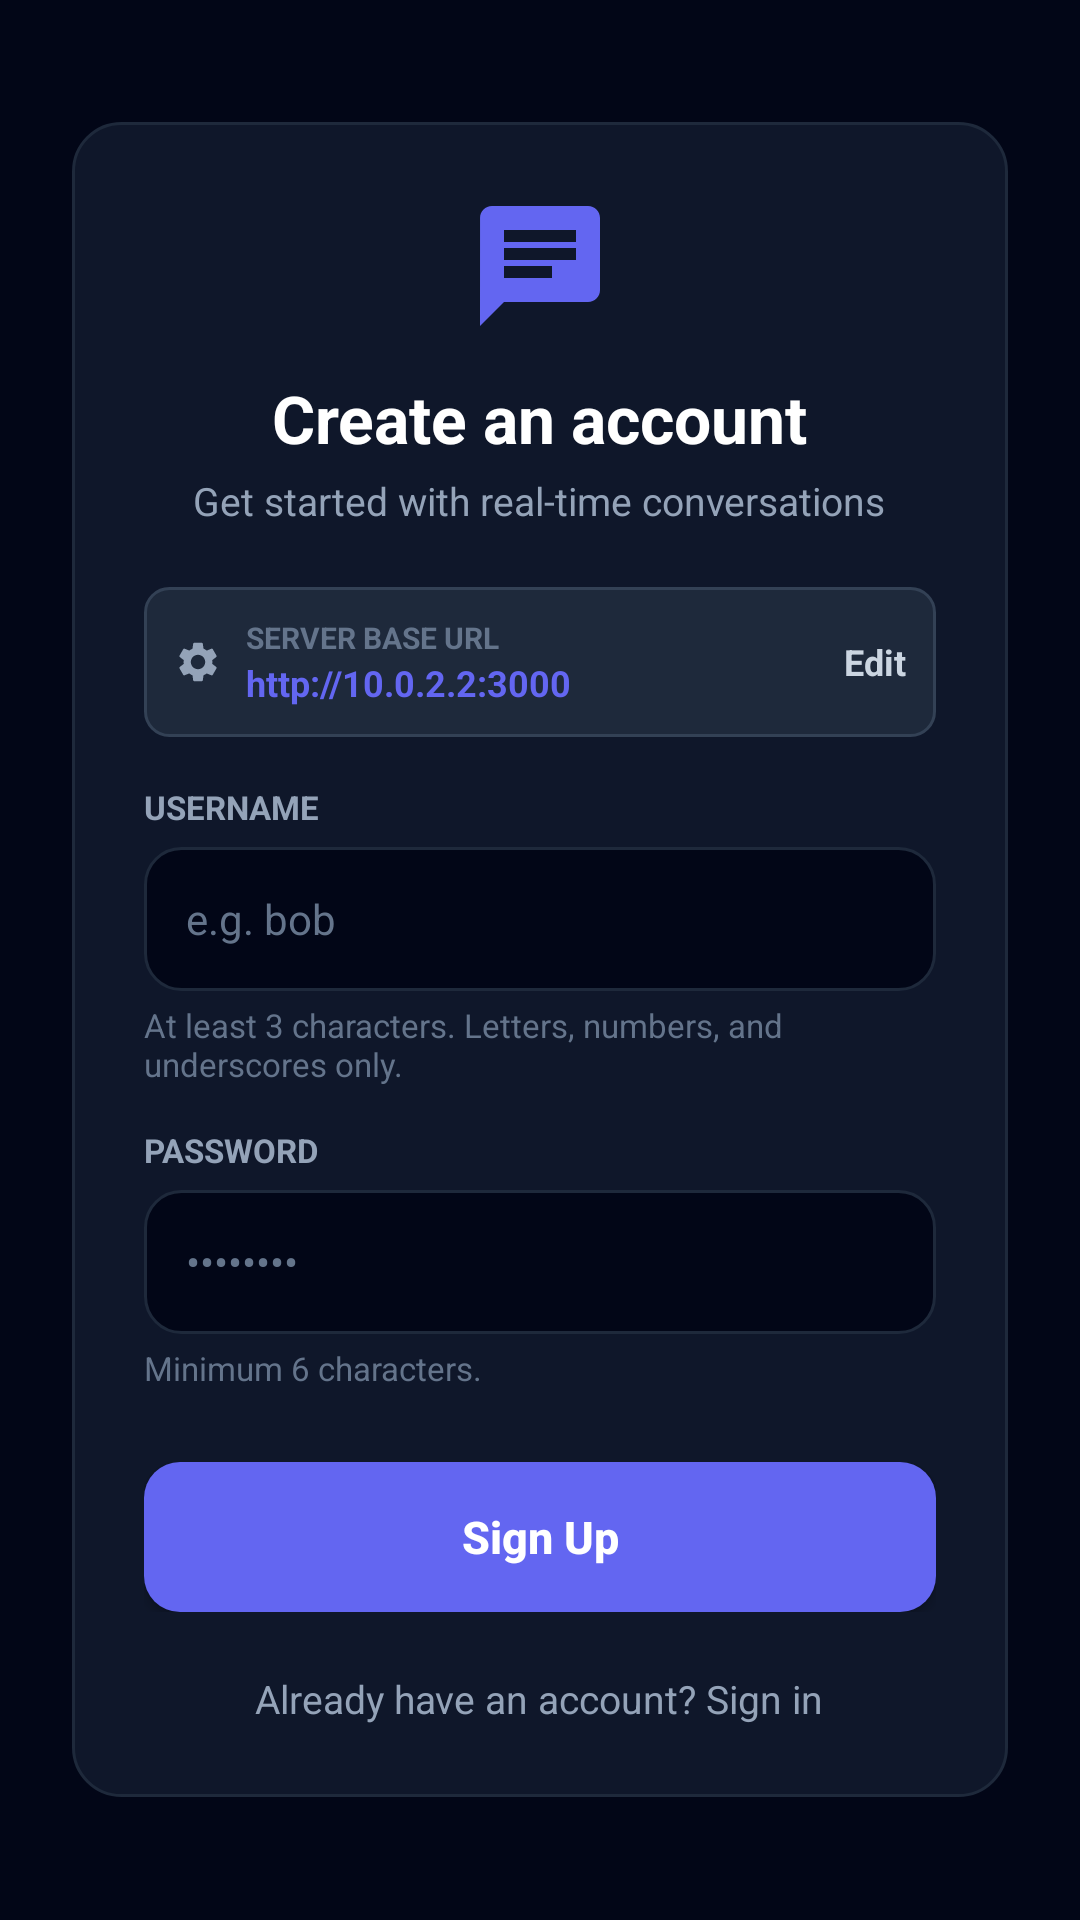

Screen size 1080w x 1920h. Icon name, then its center in pixels as [x,y]:
chat: [540,266]
settings: [198,662]
